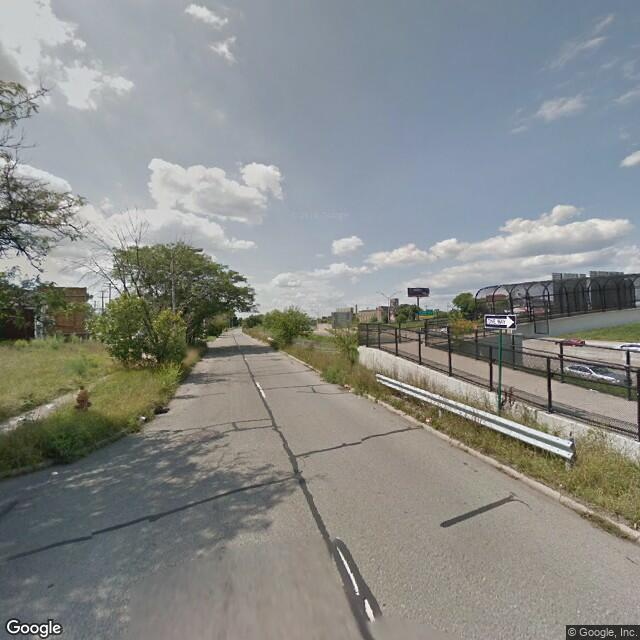litter: (139, 415, 153, 423), (423, 415, 435, 424), (51, 470, 63, 478), (46, 401, 55, 407), (342, 383, 352, 384)
